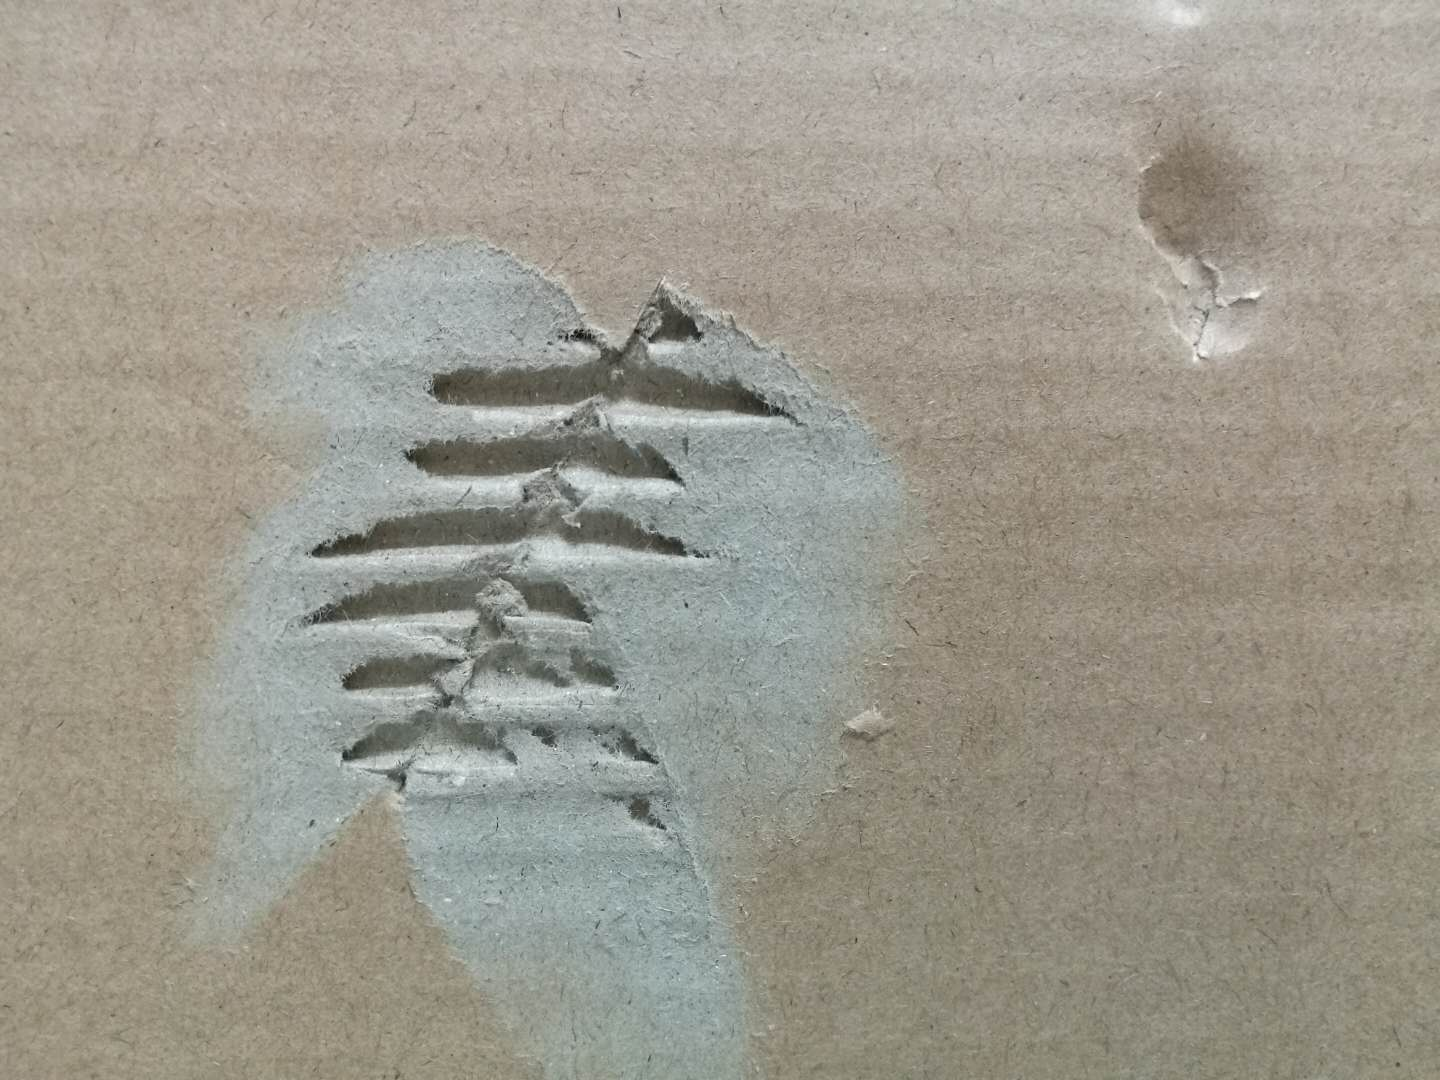defect: (151, 197, 1003, 1079), (1096, 86, 1325, 404)
